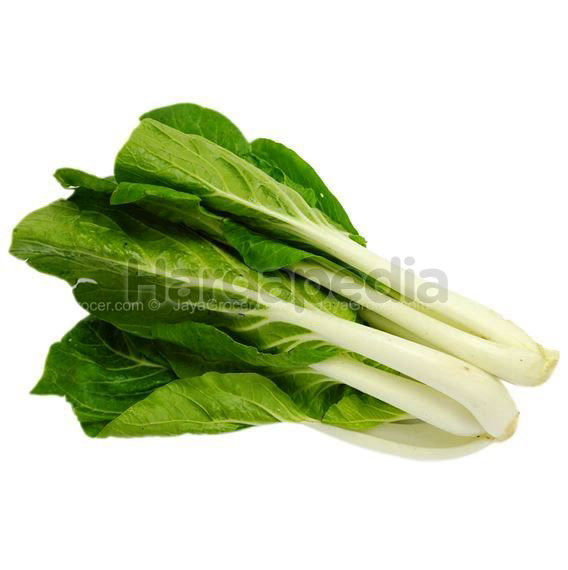Sawi: (24, 82, 551, 519)
